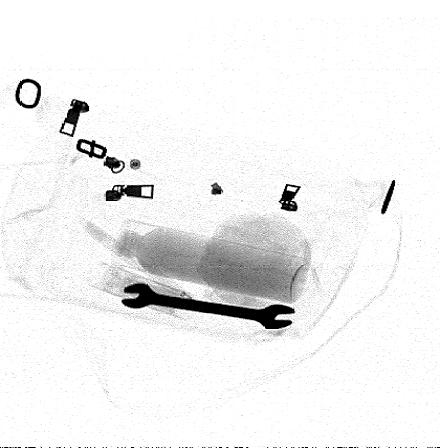Wrench: (119, 282, 297, 330)
